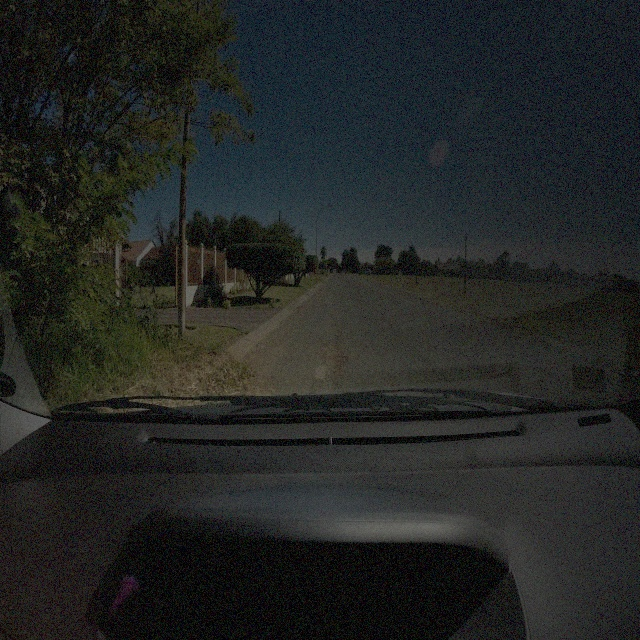pothole: (328, 356, 347, 371)
